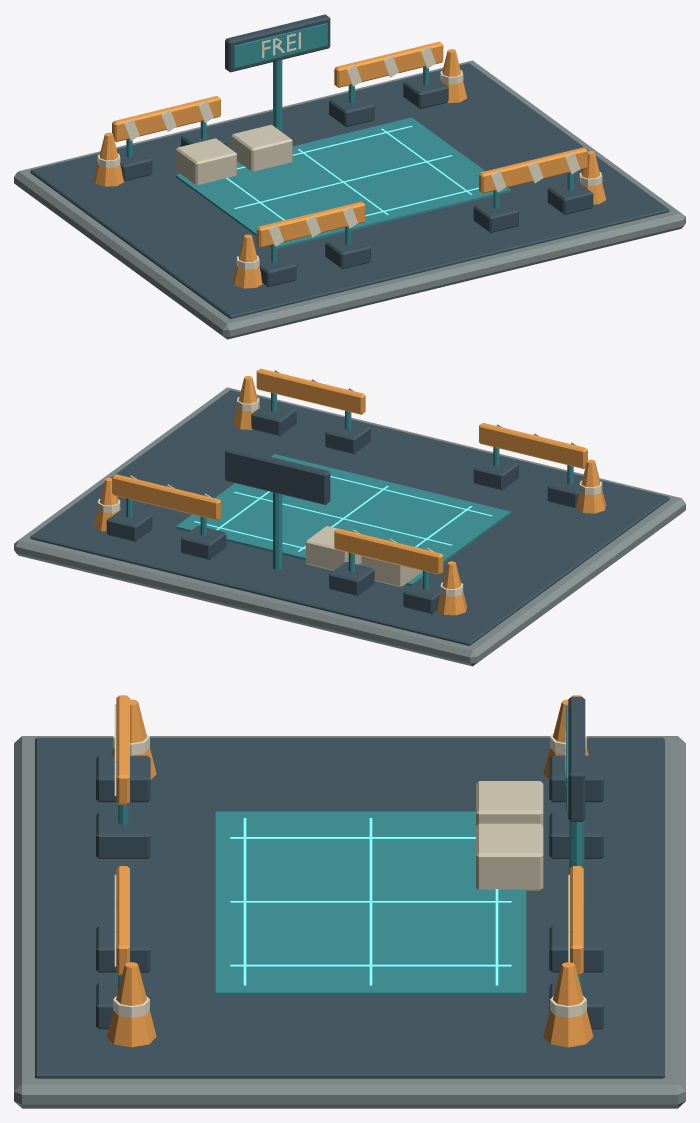
Rendered from plot.glb.
The picture shows the model from 3 angles, top to bottom: view 1: azimuth 30°, elevation 25°; view 2: azimuth 150°, elevation 25°; view 3: azimuth 270°, elevation 25°; orthographic projection. The views are drawn at different scales.
Parts seen in each view (by area): view 1: plot; view 2: plot; view 3: plot.
Boxes of the visible parts, <box> form: plot: <box>14,14,685,339</box>; plot: <box>14,368,685,666</box>; plot: <box>14,695,685,1108</box>.
Bounding box in the file's own units: 10 × 2.62 × 8.
